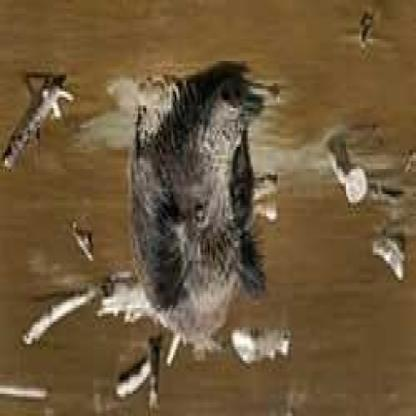boar: (121, 57, 294, 329)
